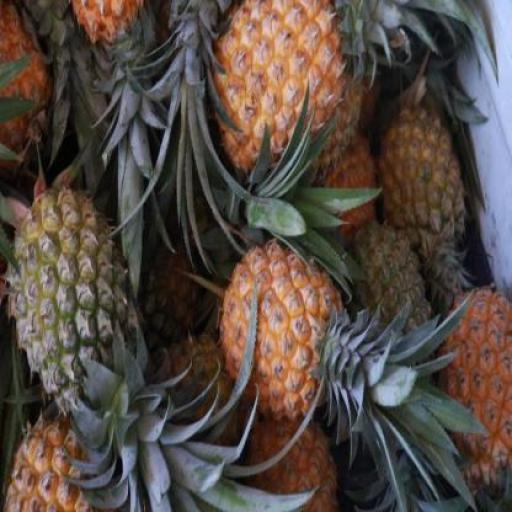------------------------------: (7, 178, 138, 402), (382, 89, 468, 261)
Pineapple - v8 v1: (218, 0, 362, 177), (222, 235, 342, 420), (438, 284, 511, 474)
